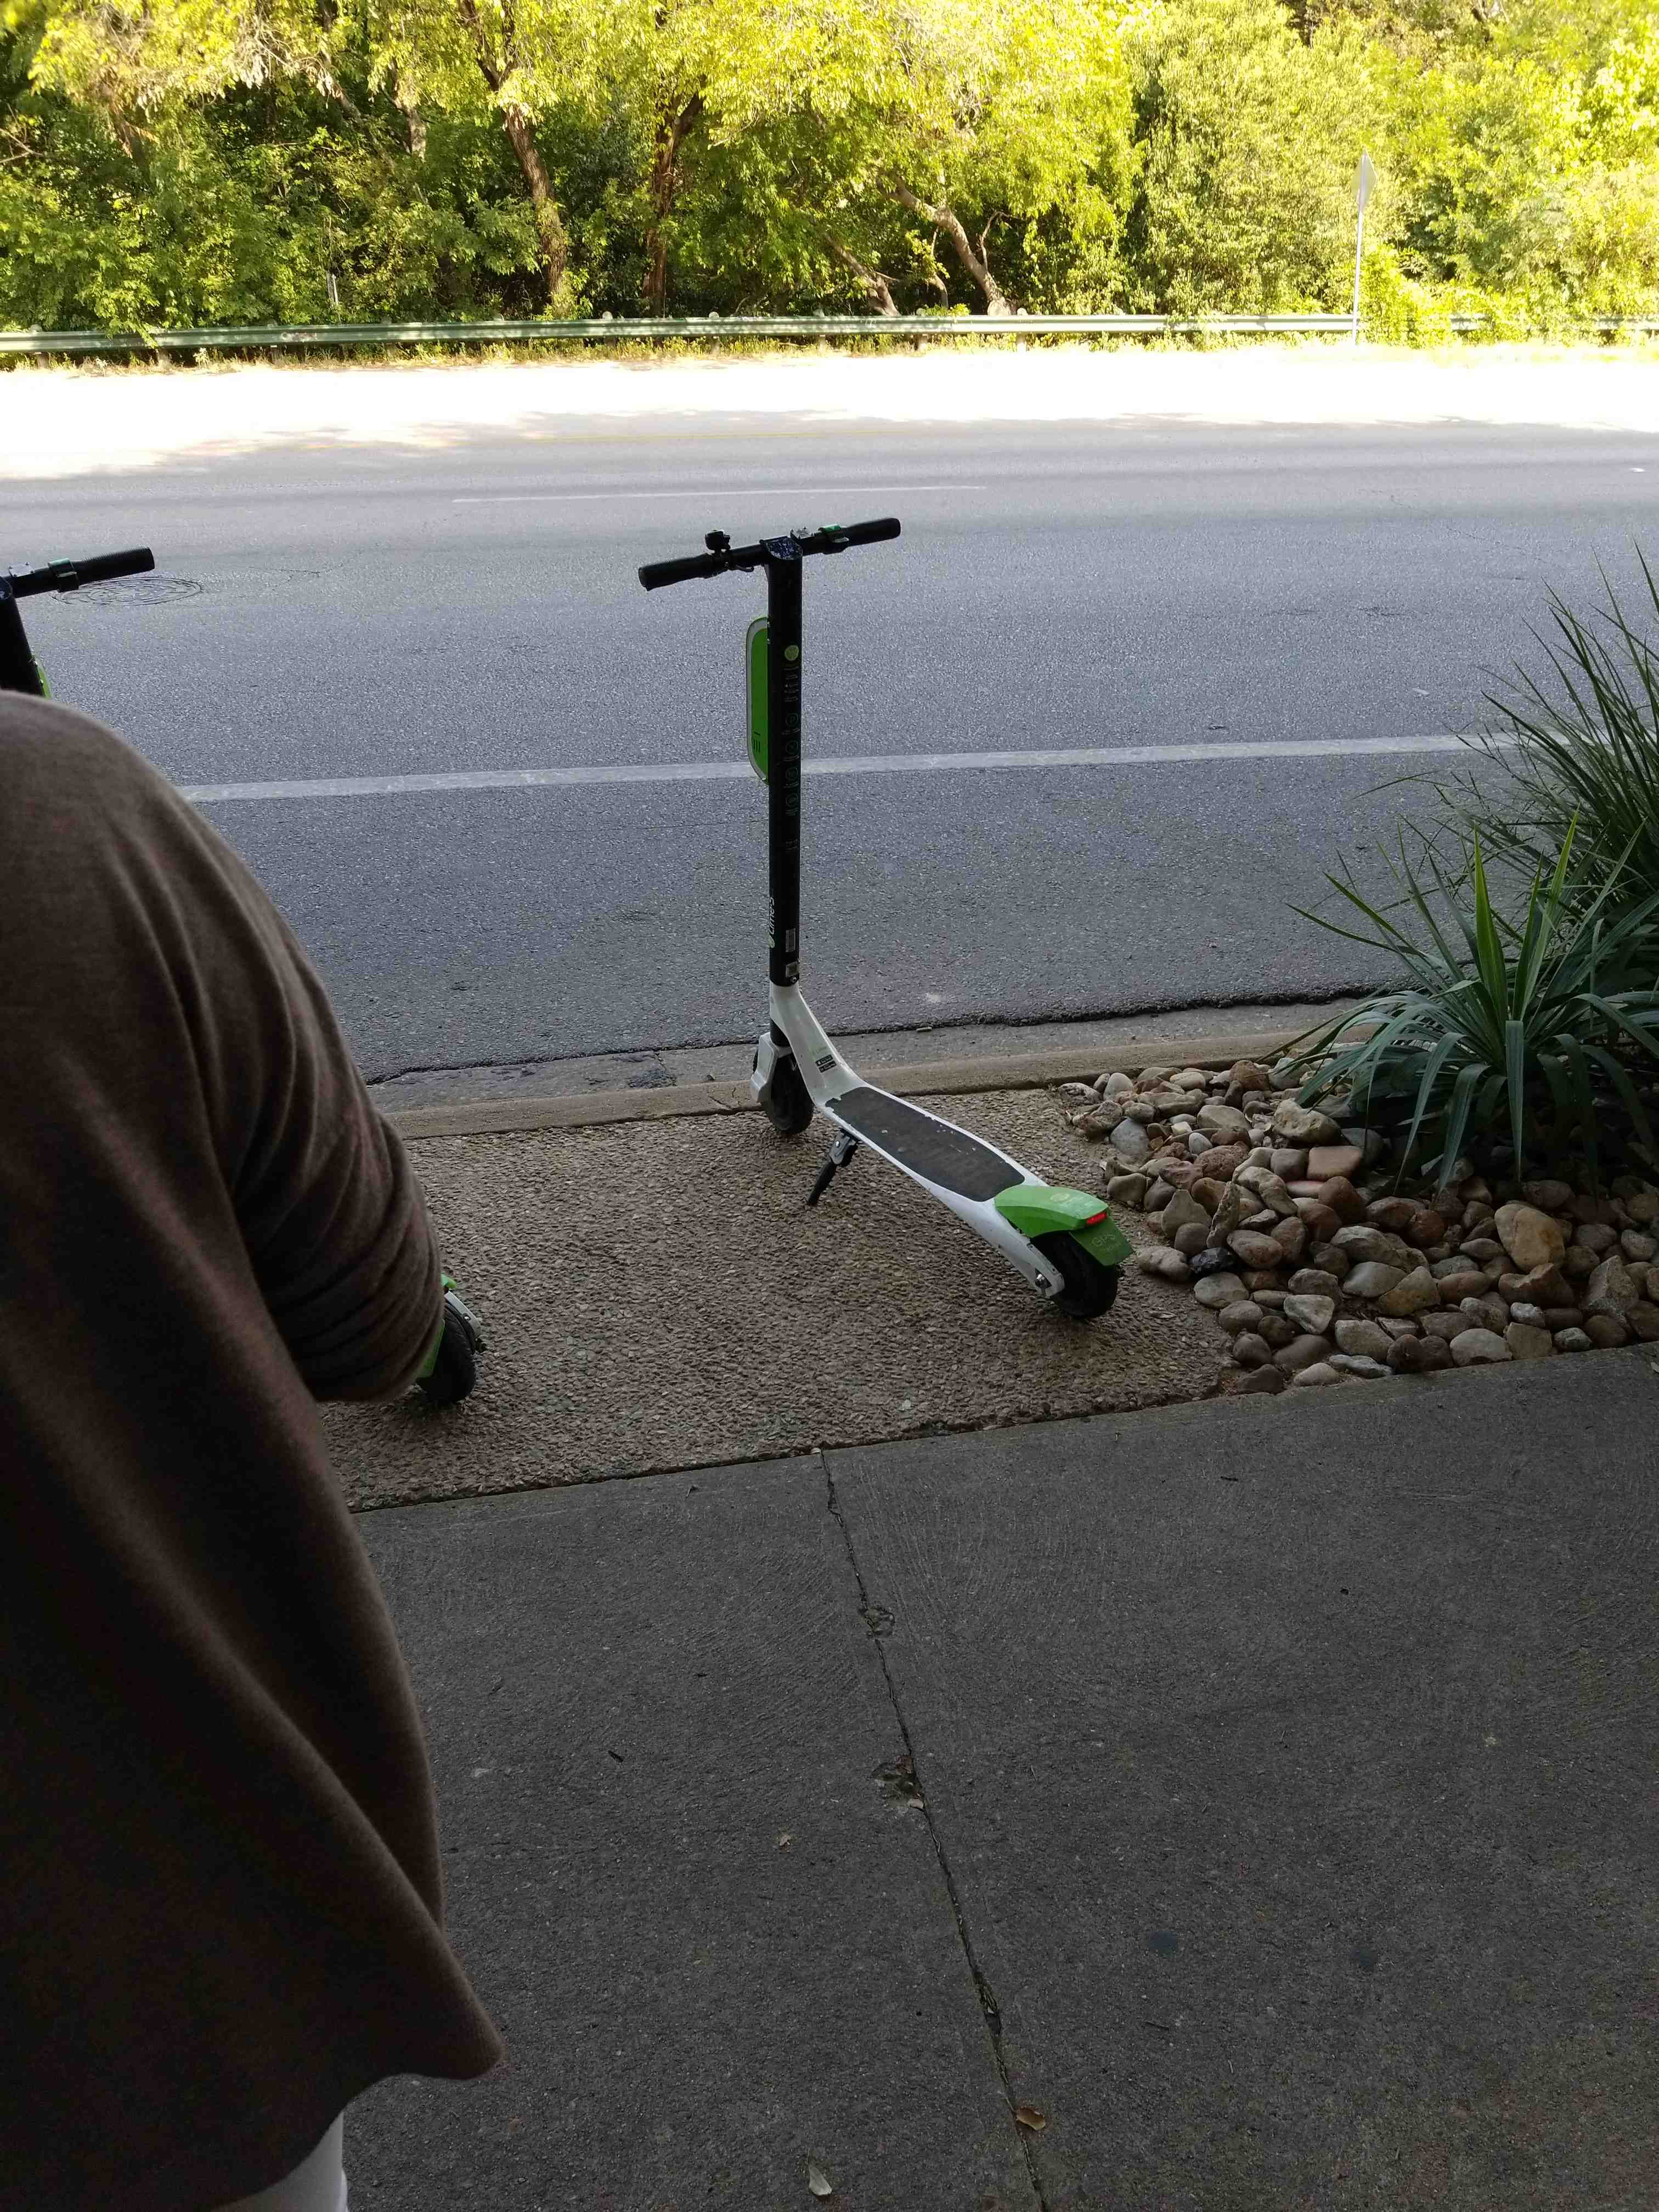scooter: (587, 509, 1187, 1301)
